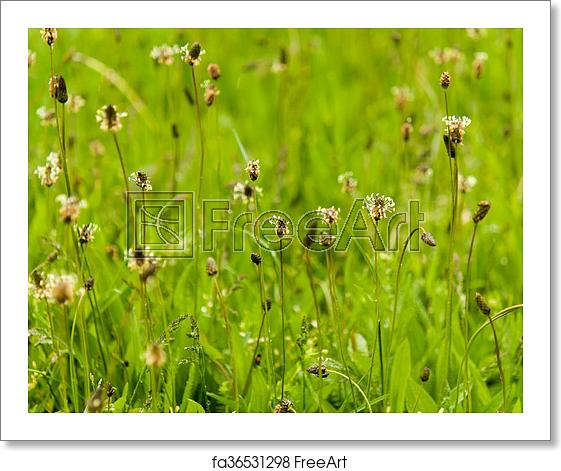buckhorn plantain: (33, 29, 508, 409)
